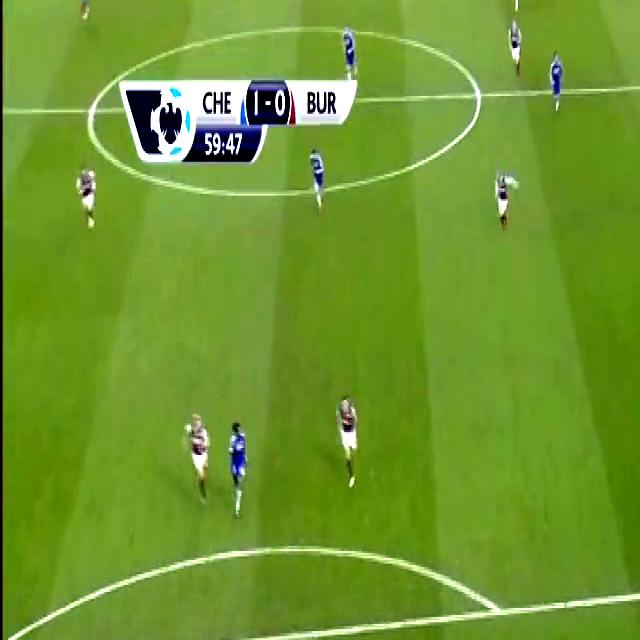soccer-player: (327, 380, 365, 500), (175, 399, 214, 513), (222, 408, 254, 525), (68, 153, 98, 238), (487, 156, 518, 234), (304, 138, 329, 219), (548, 48, 569, 122), (342, 14, 362, 87), (505, 12, 524, 85), (75, 0, 98, 25)
